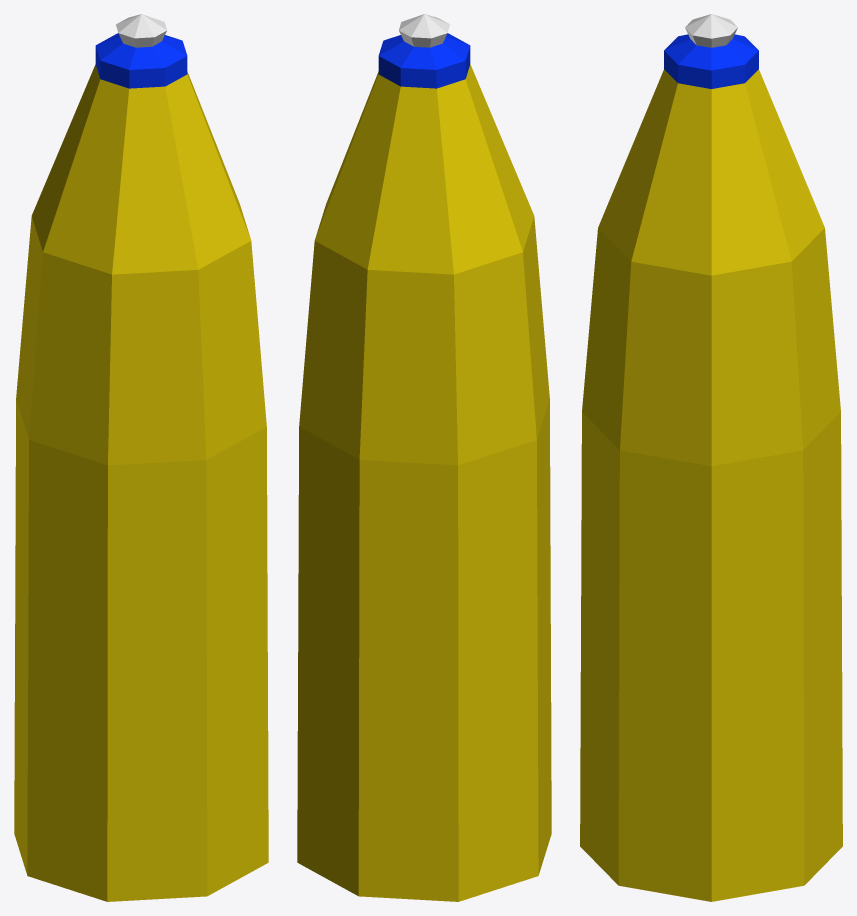
Rendered from Detergent.fbx.
3 views of the same model, side by side, from view 1: azimuth 30°, elevation 25°; view 2: azimuth 150°, elevation 25°; view 3: azimuth 270°, elevation 25° (orthographic).
Parts seen in each view (by area): view 1: Detergent; view 2: Detergent; view 3: Detergent.
Part boxes in pixels (left/top/right/bottom): Detergent: left=14, top=14, right=268, bottom=901; Detergent: left=297, top=14, right=551, bottom=901; Detergent: left=580, top=14, right=842, bottom=901.
Size of the model in its own units: 6.24 by 21.8 by 6.24.
